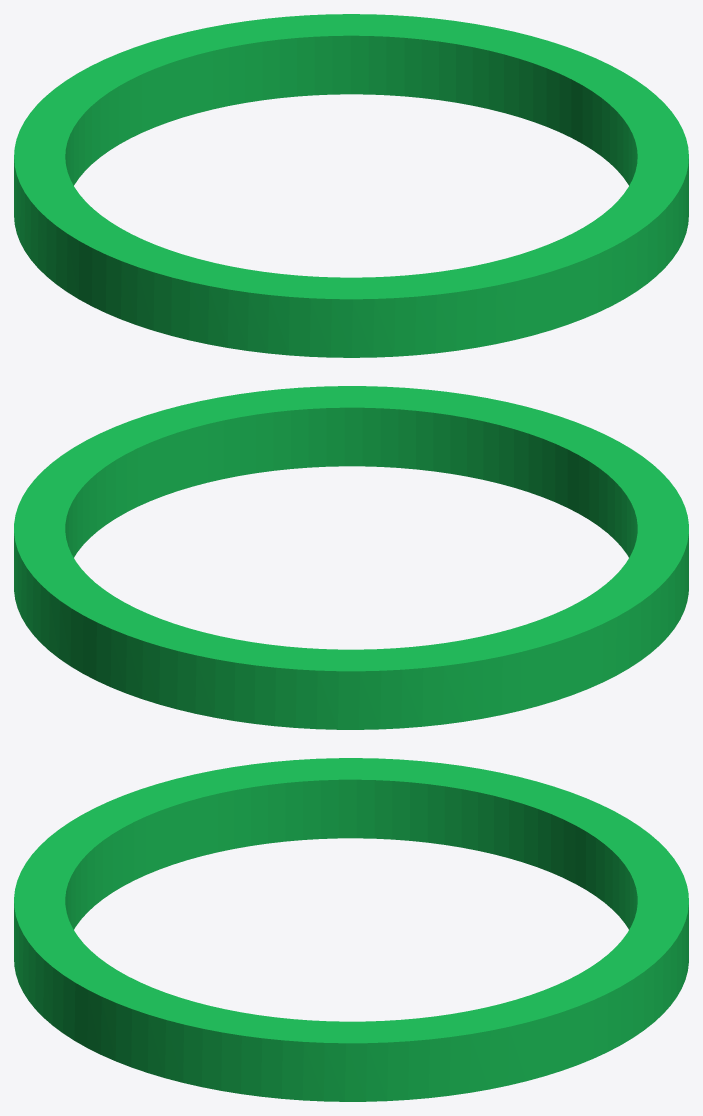
File: Planung 2.fbx
3 views of the same model, one above another, from view 1: azimuth 30°, elevation 25°; view 2: azimuth 150°, elevation 25°; view 3: azimuth 270°, elevation 25° (orthographic).
Visible parts, largest first — view 1: Planung_2; view 2: Planung_2; view 3: Planung_2.
Boxes of the visible parts, left/top/right/bottom form: Planung_2: left=14, top=14, right=688, bottom=357; Planung_2: left=14, top=386, right=688, bottom=729; Planung_2: left=14, top=758, right=688, bottom=1101.
Size of the model in its own units: 2632 by 252 by 2632.
